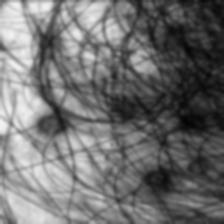Toxin: (116, 154, 222, 196), (129, 94, 213, 134), (0, 112, 63, 148)
